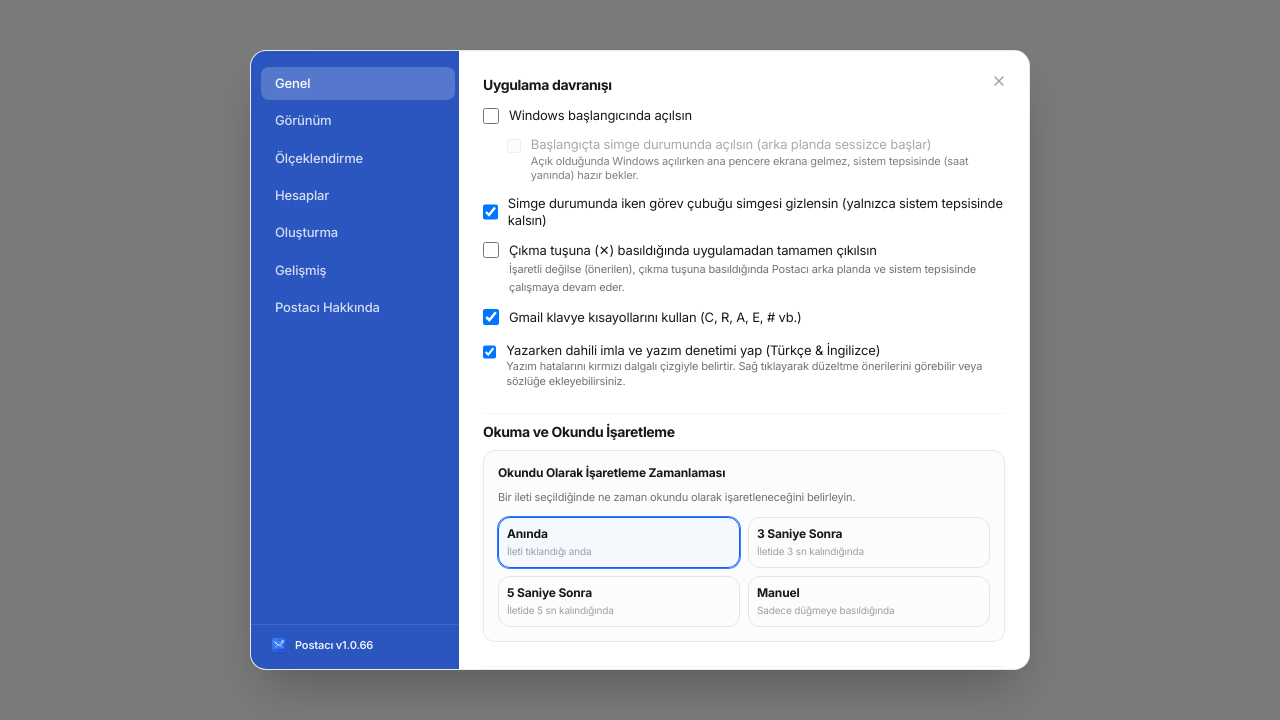
Test: SettingsModal — sekme yüzeyi › hesaplar sekmesi hesap yoksa boş durum gösterir
Click the button "Hesaplar": (358, 196) 261,179 -> 455,212
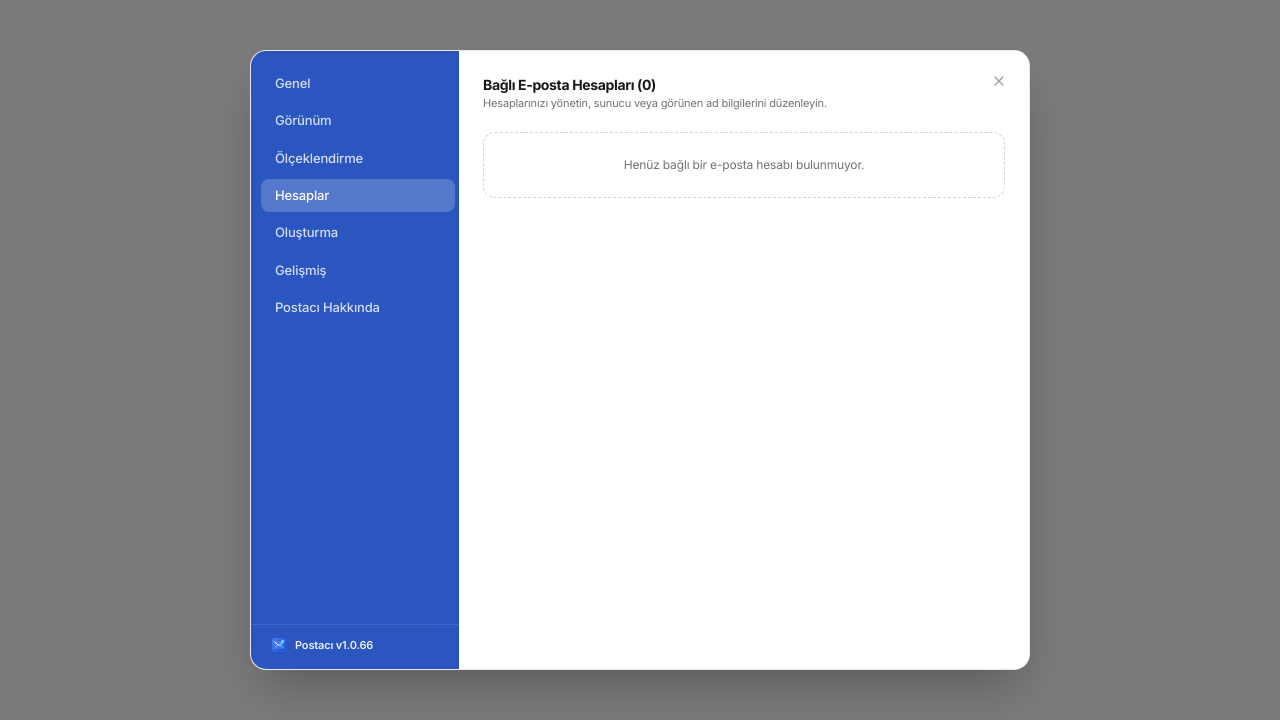
Expected: the text "Henüz bağlı bir e-posta hesabı bulunmuyor." is shown, 483,132 -> 1005,198
